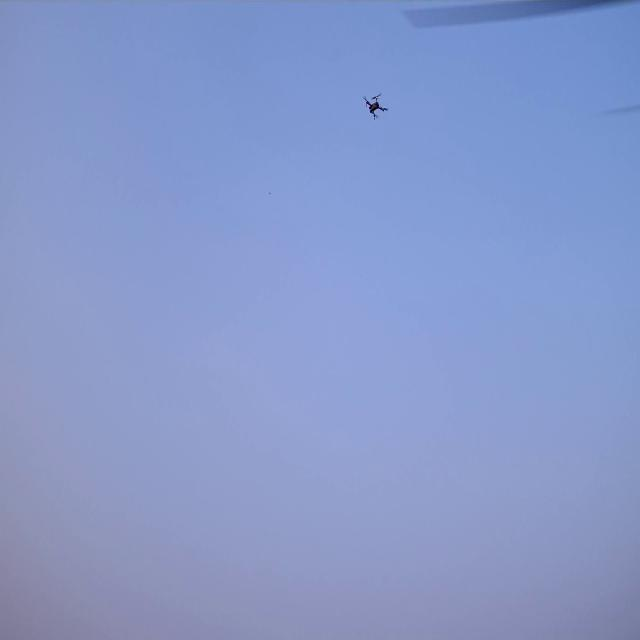UAV: (366, 96, 386, 119)
